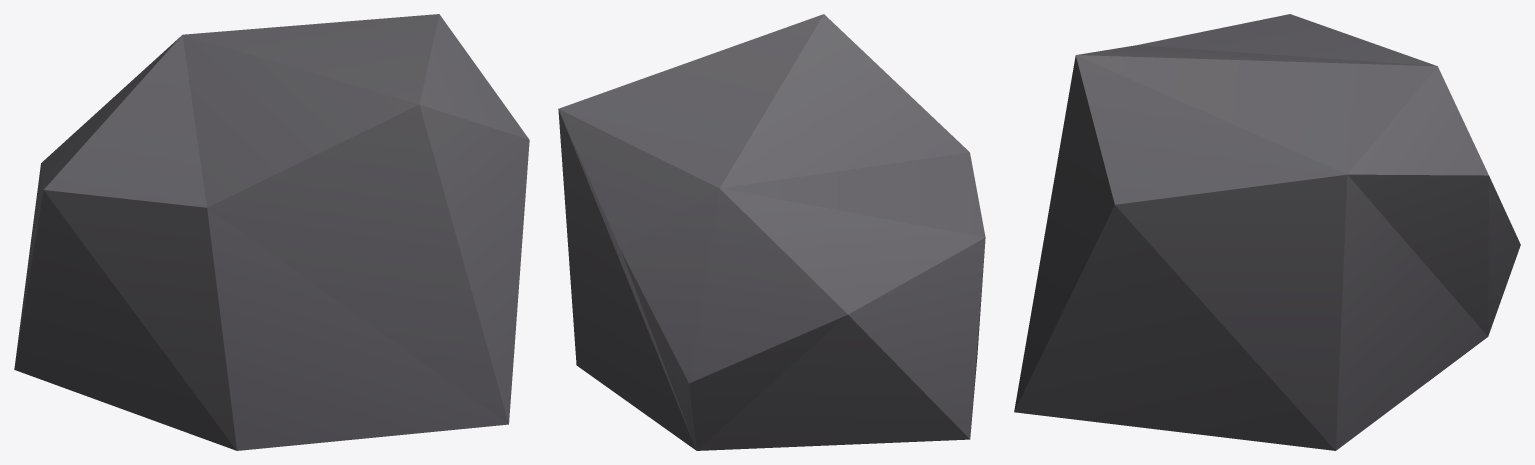
File: Mesh_Nature_Rock_02.FBX
The picture shows the model from 3 angles, left to right: view 1: azimuth 30°, elevation 25°; view 2: azimuth 150°, elevation 25°; view 3: azimuth 270°, elevation 25°; orthographic projection. The views are drawn at different scales.
Parts seen in each view (by area): view 1: Mesh_Nature_Rock_02; view 2: Mesh_Nature_Rock_02; view 3: Mesh_Nature_Rock_02.
Part boxes in pixels (x1,y1,x2,y2): Mesh_Nature_Rock_02: (14, 14, 529, 450); Mesh_Nature_Rock_02: (558, 14, 985, 450); Mesh_Nature_Rock_02: (1014, 14, 1520, 450).
Size of what is drawn, in the model's own units: 97.09 by 95.02 by 67.57.
